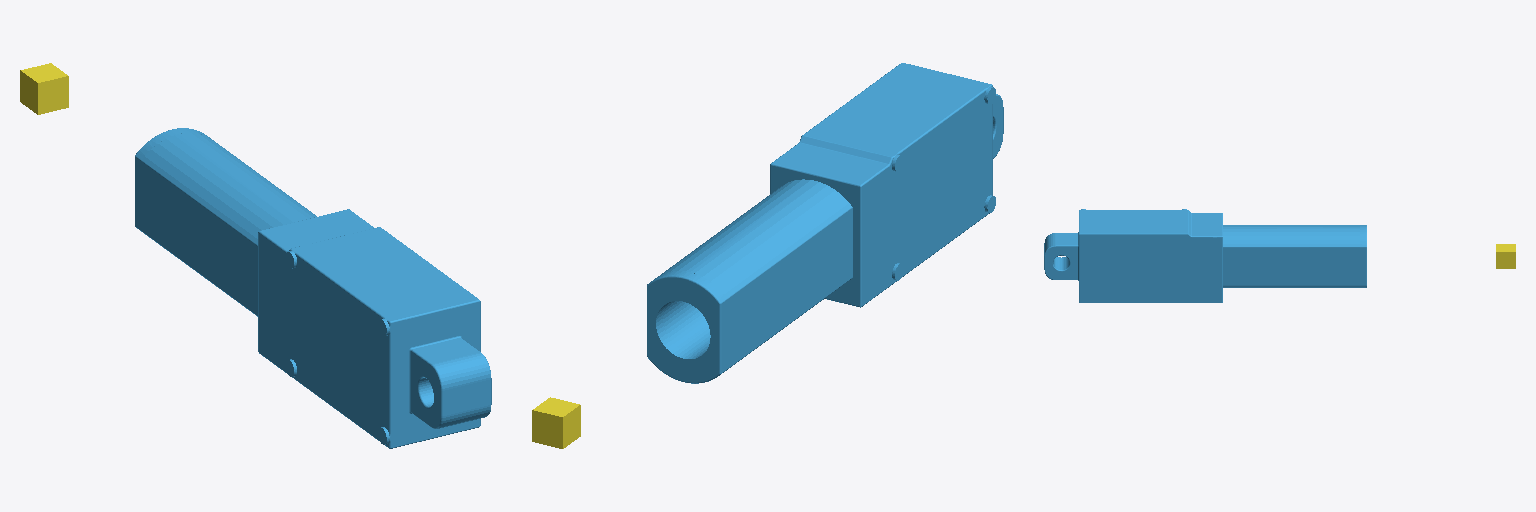
The robot description file, URDF, robot "linear_actuator":
<?xml version="1.0" ?>


<robot name="linear_actuator">

    <!-- colors -->

    <gazebo reference="arm">
         <material>Gazebo/Black</material>
    </gazebo>

    <gazebo reference="base">
         <material>Gazebo/Orange</material>
    </gazebo>

    <link name="world"/>

    <joint name="fixed" type="fixed">
        <origin rpy="0 0 0" xyz="0 0.0 0.5" />
        <parent link="world"/>
        <child link="base"/>
    </joint>

 
   
    <link name ="base" >
    
      <inertial>
      
          <origin xyz="0 0 0.09" rpy="0 0 0" />
         
          <mass value="1.8"/>
      
            <inertia 
              ixx="0.108" 
              ixy="0" 
              ixz="0" 
              iyy="0.108" 
              iyz="0" 
              izz="0.054"
            />
        </inertial>
        


      <visual >

          <geometry>
              <mesh
         
                  filename="package://robot_description/models/linear_actuator_with_camera/STL/base.stl"
                  scale = "0.01 0.01 0.01"
                  
              />
          
          </geometry>
     
        
      
      </visual>
      <collision name='collision_base_link'>
    
          <geometry>
            <mesh

                filename="package://robot_description/models/linear_actuator_with_camera/STL/base.stl"
                scale = "0.01 0.01 0.01"
            />
       
          </geometry>
          
      </collision>
    </link>

    <link name ="arm" >
 
        <inertial>
        <origin xyz="0 0 0.09" rpy="0 0 0" />
            <mass value="1.8"/>
        <inertia 
            ixx="0.108" 
            ixy="0" 
            ixz="0" 
            iyy="0.108" 
            iyz="0" 
            izz="0.054"
        />
        </inertial>

        <visual>

            <geometry>
                <mesh
                    filename="package://robot_description/models/linear_actuator_with_camera/STL/arm.stl"
                    scale = "0.01 0.01 0.01"
                />
           
            </geometry>
      
           
      
        </visual>
        <collision name='collision_arm_link'>
    
            <geometry>
                <mesh
                        filename="package://robot_description/models/linear_actuator_with_camera/STL/arm.stl"
                        scale = "0.01 0.01 0.01"
                />
            
            </geometry>
        </collision>
    </link>

    <joint name="arm_base" type="prismatic">
        <origin rpy="0 0 0" xyz="0 0.6 0" />
        
        <parent link="base"/>
        <child link ="arm"/>
        
        <axis xyz="0 1 0"/>
        <limit  effort="1000" 
                lower="0" 
                upper="0.2" 
                velocity="2" />
             
        />
        <dynamics damping="0.1"/>
    </joint> 





    <link name="camera_base">
        <inertial>
          <mass value="1.0e-05" />
          <origin xyz="0 0 0" rpy="0 0 0"/>
          <inertia ixx="1.0e-06" ixy="0" ixz="0" iyy="1.0e-06" iyz="0" izz="1.0e-06" />
        </inertial>

        <visual>
      
            <geometry>
                <box size="0.05 0.05 0.05"/>
            </geometry>

        </visual>

        <collision>
       
            <geometry>
                <box size="0.05 0.05 0.05"/>
            </geometry>
        </collision>

        
    </link>  

    <joint name="camera_base_arm" type="fixed">
        <axis xyz="0 1 0" />
        <origin xyz="0 0.6 0" rpy="0 0 1.57"/>
        <parent link="arm"/>
        <child link="camera_base"/>
    </joint>

    <!-- plugin -->
      <gazebo>
    <plugin name="gazebo_ros_control" filename="libgazebo_ros_control.so">
        <!-- <robotNameSpace>/linear_actuator</robotNameSpace> -->
        <robotSimType>gazebo_ros_control/DefaultRobotHWSim</robotSimType>
    </plugin>
      </gazebo>

     <!-- transmission -->
    <transmission name="linear_transmission">
        <type>transmission_interface/SimpleTransmission</type>
        <joint name="arm_base">
          <hardwareInterface>PositionJointInterface</hardwareInterface>
        </joint>  
        <actuator name="linear_motor">
          <hardwareInterface>PositionJointInterface</hardwareInterface>
          <mechanicalReduction>1</mechanicalReduction>
        </actuator>
    </transmission>

    <!-- camera plugin  -->
     
    <gazebo reference="camera_base">
        <sensor type="camera" name="camera1">
          <update_rate>30.0</update_rate>
          <camera name="head">
            <horizontal_fov>1.3962634</horizontal_fov>
            <image>
              <width>800</width>
              <height>800</height>
              <format>R8G8B8</format>
            </image>
            <clip>
              <near>0.02</near>
              <far>300</far>
            </clip>
            <noise>
              <type>gaussian</type>
              <mean>0.0</mean>
              <stddev>0.007</stddev>
            </noise>
          </camera>

          <plugin name="camera_controller" filename="libgazebo_ros_camera.so">
            <alwaysOn>true</alwaysOn>
            <updateRate>0.0</updateRate>
            <cameraName>camera1</cameraName>
            <imageTopicName>image_raw</imageTopicName>
            <cameraInfoTopicName>camera_info</cameraInfoTopicName>
            <frameName>camera_base</frameName>
            <hackBaseline>0.07</hackBaseline>
            <distortionK1>0.0</distortionK1>
            <distortionK2>0.0</distortionK2>
            <distortionK3>0.0</distortionK3>
            <distortionT1>0.0</distortionT1>
            <distortionT2>0.0</distortionT2>
          </plugin>
        </sensor>
    </gazebo>

    
    


</robot>

--- What the picture shows (computed from the rendered views, not written in the file) ---
3 views of the same robot in one strip: view 1: azimuth 30°, elevation 25°; view 2: azimuth 150°, elevation 25°; view 3: azimuth 270°, elevation 25° (orthographic).
Robot: linear_actuator — 4 links, 3 joints (1 prismatic, 2 fixed); root link world; default pose: every joint at zero.
Visible links, largest first — view 1: base, camera_base; view 2: base, camera_base; view 3: base.
Boxes of the visible links, x1=… form: base: x1=135, y1=128, x2=491, y2=448; camera_base: x1=20, y1=63, x2=68, y2=114; base: x1=647, y1=63, x2=1003, y2=383; camera_base: x1=532, y1=397, x2=580, y2=448; base: x1=1044, y1=209, x2=1366, y2=302.
Bounding box of the posed robot: 0.155 × 1.22 × 0.2 m (x, y, z).
Meshes: 2 distinct files referenced, 1 mesh visuals loaded (1 binary STL); not drawn: 1 (reference not matched to a file when rendering).